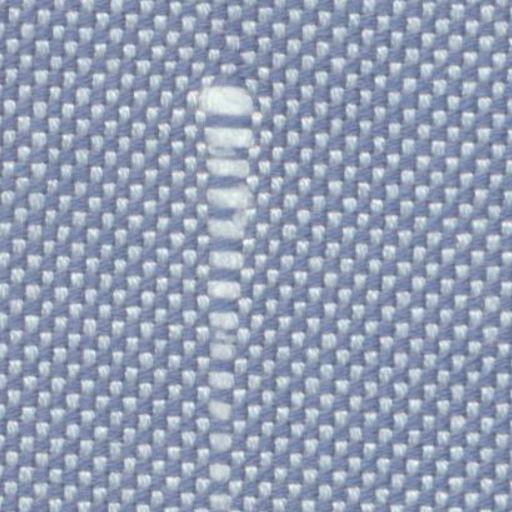DaiSha: (176, 66, 273, 502)
